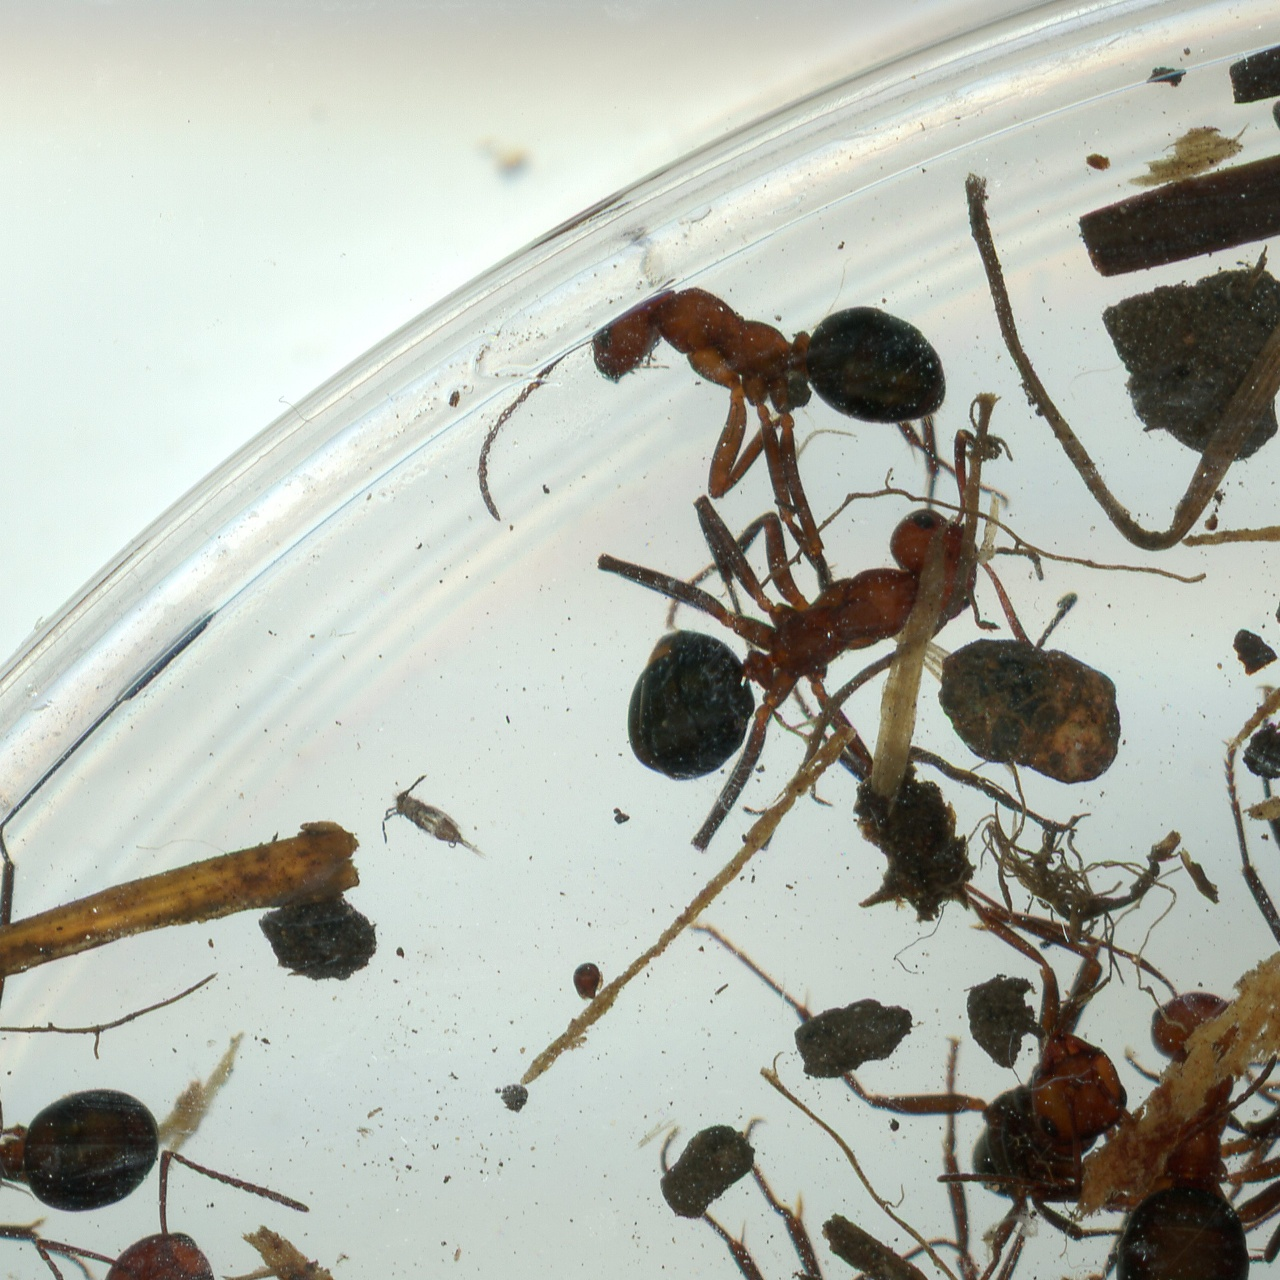arthropod: (573, 508, 1052, 864), (460, 289, 971, 561), (697, 922, 1137, 1208), (0, 1076, 509, 1280), (1011, 894, 1280, 1280), (649, 1097, 1133, 1280), (0, 815, 164, 1280), (1199, 823, 1280, 1280), (364, 756, 517, 899), (570, 960, 607, 1003)
